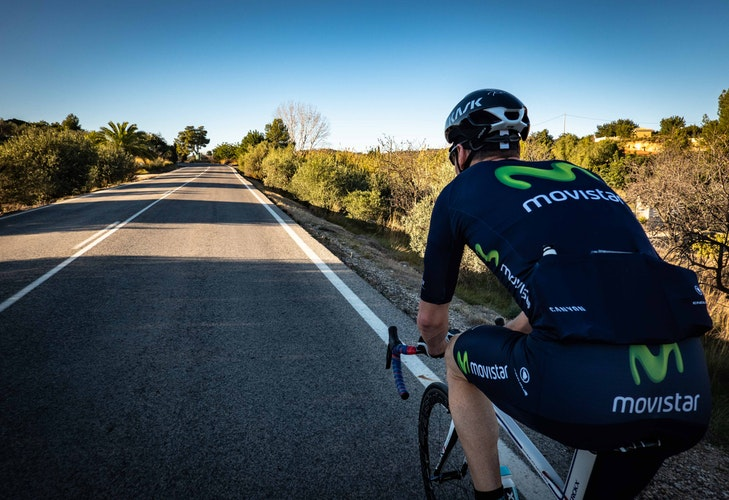helmet: (432, 91, 546, 146)
